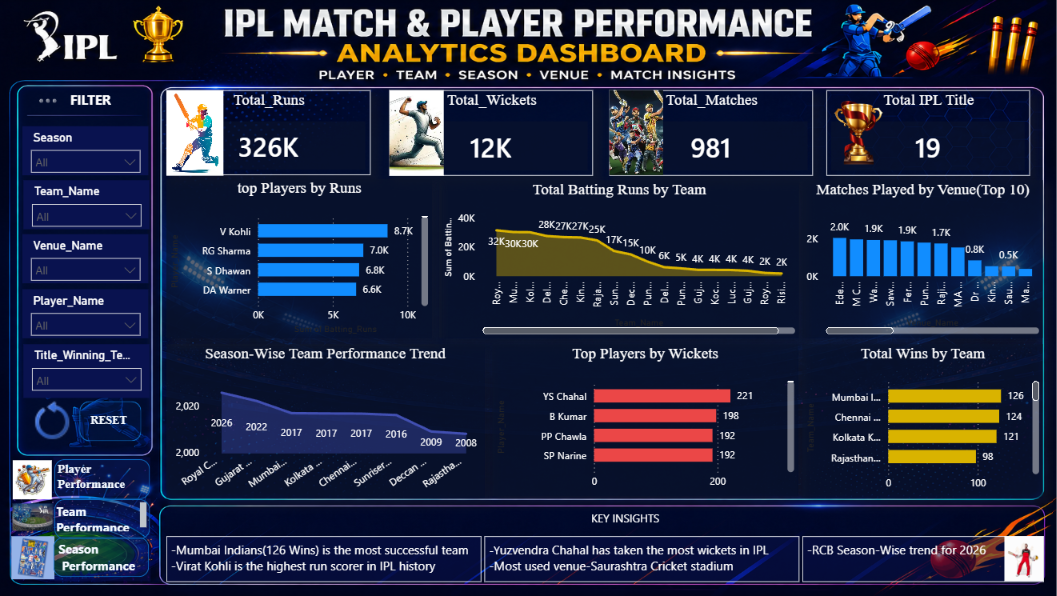

What the dashboard file says about the page in this screenshot:
{"tool":"powerbi","page":{"name":"Page 4","canvas":[1280,720],"ordinal":3},"visuals":[{"type":"cardVisual","title":"Total Runs","fields":{"Data":["ipl performanceh.Total_runs"]},"box":[202.7,109.8,246.1,102.5],"z":0},{"type":"cardVisual","title":"Total Wickets","fields":{"Data":["ipl performanceh.total_wickets"]},"box":[472,109.8,245.6,102.9],"z":1000},{"type":"cardVisual","title":"Total Matches","fields":{"Data":["ipl matchh.Total_match"]},"box":[736.9,109.8,245.6,102.9],"z":2000},{"type":"cardVisual","title":"Total IPL Title","fields":{"Data":["ipl title_winh.Total_cup"]},"box":[999,109.8,245.6,102.9],"z":3000},{"type":"image","box":[203.1,109.8,68.6,102.9],"z":4000},{"type":"image","box":[472,109.8,65.9,102.9],"z":5000},{"type":"image","box":[737.1,109.8,65.1,102.5],"z":6000},{"type":"image","box":[998.9,109.8,77.2,102.5],"z":7000},{"type":"slicer","fields":{"Values":["ipl seasonh.Season"]},"box":[28.8,153.7,152.3,59],"z":8000},{"type":"slicer","fields":{"Values":["ipl teamh.Team_Name"]},"box":[30.2,218.2,152.3,59],"z":9000},{"type":"slicer","fields":{"Values":["ipl venueh.Venue_Name"]},"box":[28.8,284,152.3,59],"z":10000},{"type":"slicer","fields":{"Values":["ipl performanceh.Player_Name"]},"box":[28.8,349.9,152.3,59],"z":11000},{"type":"image","box":[15.7,556.2,50.7,47.1],"z":12000},{"type":"image","box":[16.9,602,49.5,45.8],"z":14000},{"type":"textbox","box":[65.1,602,118.2,44.6],"z":15000},{"type":"image","box":[8.4,647.9,66.4,51.9],"z":16000},{"type":"textbox","box":[67.2,647.7,115.8,54.3],"z":17000},{"type":"areaChart","title":"Total Batting Runs by Team","fields":{"Category":["ipl teamh.Team_Name"],"Y":["Sum(ipl performanceh.Batting_Runs)"]},"box":[532,218.4,434.3,190.6],"z":18000},{"type":"stackedAreaChart","title":"Season-Wise Team Performance Trend ","fields":{"Category":["ipl teamh.Team_Name"],"Y":["Avg(ipl seasonh.Season)"]},"box":[202.7,416.2,383.6,185.8],"z":19000},{"type":"columnChart","title":"Matches Played by Venue(Top 10)","fields":{"Category":["ipl venueh.Venue_Name"],"Y":["Sum(ipl performanceh.Matches)"]},"box":[970,218.4,290.8,190.6],"z":20000},{"type":"barChart","title":"Top Players by Wickets","fields":{"Category":["ipl performanceh.Player_Name"],"Y":["Sum(ipl performanceh.Wickets)"]},"box":[596,416.2,369.2,183.4],"z":21000},{"type":"textbox","box":[202.7,611.7,1058,30.2],"z":22000},{"type":"barChart","title":"Total Wins by Team","fields":{"Category":["ipl teamh.Team_Name"],"Y":["Sum(ipl team_seasonwinh.Match_Wins)"]},"box":[970,416.2,290.8,185.8],"z":23000},{"type":"textbox","box":[203.1,647.7,380.1,54.9],"z":24000},{"type":"textbox","box":[585.9,647.7,380.1,54.9],"z":25000},{"type":"textbox","box":[970.2,647.7,290.9,54.9],"z":26000},{"type":"slicer","fields":{"Values":["ipl title_winh.Title_Winning_Team"]},"box":[30.2,415.8,152.3,64.5],"z":27000},{"type":"textbox","box":[105.7,494,76.8,30.2],"z":28000},{"type":"image","box":[32.6,485,64.5,50.8],"z":29000},{"type":"textbox","box":[67.6,105,86.9,37.4],"z":30000},{"type":"image","box":[35,108.6,49.5,27.7],"z":31000},{"type":"image","box":[1213.7,647.9,47.1,54.3],"z":32000},{"type":"textbox","box":[65.9,553,117,47.1],"z":34002},{"type":"shape","box":[67.2,554.4,115.3,48],"z":34003},{"type":"shape","box":[67.2,603.8,115.3,48],"z":34006},{"type":"shape","box":[65.9,649.1,115.3,48],"z":34008},{"type":"shape","box":[97.7,485,74.8,48.3],"z":34009},{"type":"barChart","title":"top Players by Runs","fields":{"Category":["ipl performanceh.Player_Name"],"Y":["Sum(ipl performanceh.Batting_Runs)"]},"box":[202.7,217.2,320.9,191.8],"z":34010}]}

Visuals, with their boxes in screenshot pixels (x1, y1, x2, y2), scaled from the page's 1280x720 canvas onto the 1057x596 screenshot:
"Total Runs" cardVisual: (x1=167, y1=91, x2=371, y2=176)
"Total Wickets" cardVisual: (x1=390, y1=91, x2=593, y2=176)
"Total Matches" cardVisual: (x1=609, y1=91, x2=811, y2=176)
"Total IPL Title" cardVisual: (x1=825, y1=91, x2=1028, y2=176)
image: (x1=168, y1=91, x2=224, y2=176)
image: (x1=390, y1=91, x2=444, y2=176)
image: (x1=609, y1=91, x2=662, y2=176)
image: (x1=825, y1=91, x2=889, y2=176)
slicer - ipl seasonh.Season: (x1=24, y1=127, x2=150, y2=176)
slicer - ipl teamh.Team_Name: (x1=25, y1=181, x2=151, y2=229)
slicer - ipl venueh.Venue_Name: (x1=24, y1=235, x2=150, y2=284)
slicer - ipl performanceh.Player_Name: (x1=24, y1=290, x2=150, y2=338)
image: (x1=13, y1=460, x2=55, y2=499)
image: (x1=14, y1=498, x2=55, y2=536)
textbox: (x1=54, y1=498, x2=151, y2=535)
image: (x1=7, y1=536, x2=62, y2=579)
textbox: (x1=55, y1=536, x2=151, y2=581)
"Total Batting Runs by Team" areaChart: (x1=439, y1=181, x2=798, y2=339)
"Season-Wise Team Performance Trend " stackedAreaChart: (x1=167, y1=345, x2=484, y2=498)
"Matches Played by Venue(Top 10)" columnChart: (x1=801, y1=181, x2=1041, y2=339)
"Top Players by Wickets" barChart: (x1=492, y1=345, x2=797, y2=496)
textbox: (x1=167, y1=506, x2=1041, y2=531)
"Total Wins by Team" barChart: (x1=801, y1=345, x2=1041, y2=498)
textbox: (x1=168, y1=536, x2=482, y2=582)
textbox: (x1=484, y1=536, x2=798, y2=582)
textbox: (x1=801, y1=536, x2=1041, y2=582)
slicer - ipl title_winh.Title_Winning_Team: (x1=25, y1=344, x2=151, y2=398)
textbox: (x1=87, y1=409, x2=151, y2=434)
image: (x1=27, y1=401, x2=80, y2=444)
textbox: (x1=56, y1=87, x2=128, y2=118)
image: (x1=29, y1=90, x2=70, y2=113)
image: (x1=1002, y1=536, x2=1041, y2=581)
textbox: (x1=54, y1=458, x2=151, y2=497)
shape: (x1=55, y1=459, x2=151, y2=499)
shape: (x1=55, y1=500, x2=151, y2=540)
shape: (x1=54, y1=537, x2=150, y2=577)
shape: (x1=81, y1=401, x2=142, y2=441)
"top Players by Runs" barChart: (x1=167, y1=180, x2=432, y2=339)
